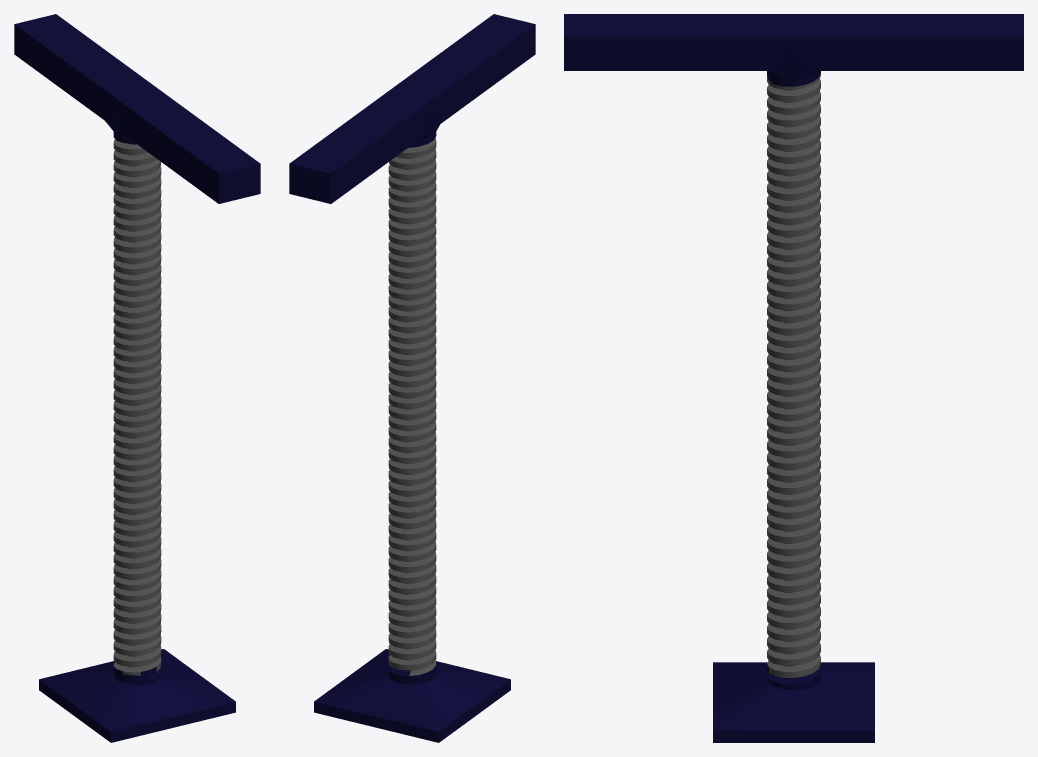
The model's file is clamp-for-sbs.obj.
3 renders of one model, left to right at view 1: azimuth 30°, elevation 25°; view 2: azimuth 150°, elevation 25°; view 3: azimuth 270°, elevation 25°, orthographic. The views are drawn at different scales.
Parts seen in each view (by area): view 1: clamp-hand; view 2: clamp-hand; view 3: clamp-hand.
Boxes of the visible parts, x1=… form: clamp-hand: x1=14, y1=14, x2=260, y2=742; clamp-hand: x1=289, y1=14, x2=535, y2=742; clamp-hand: x1=564, y1=14, x2=1023, y2=742.
Bounding box in the file's own units: 0.12 × 0.5576 × 0.34.
